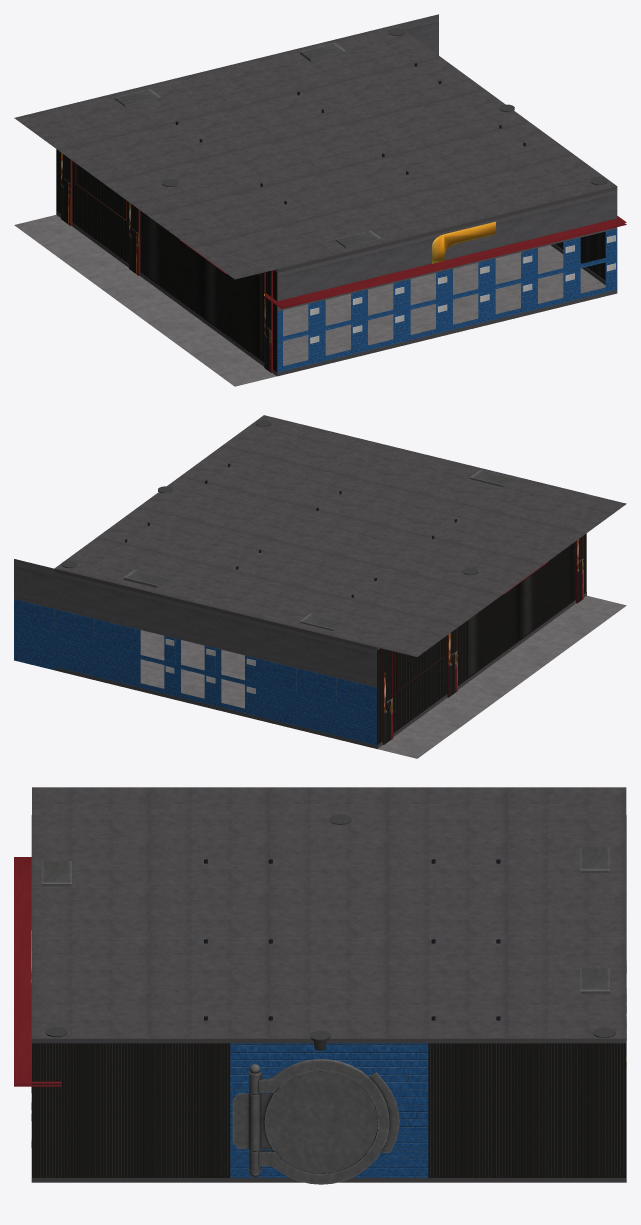
File: Casino_Cash_Room.fbx
3 views of the same model, one above another, from view 1: azimuth 30°, elevation 25°; view 2: azimuth 150°, elevation 25°; view 3: azimuth 270°, elevation 25° (orthographic). The views are drawn at different scales.
Visible parts, largest first — view 1: Roof, Plane.004, Floor, Right_Side_Wall.001, Skirting, Door_Wall, Front_Wall, Washroom_Walls.003; view 2: Roof, Front_Wall, Right_Side_Wall.001, Floor, Skirting; view 3: Roof, Door_Wall, Vault_Door, Skirting, Plane.004, Cctv, Washroom_Walls.003, Washroom_Walls.001, Washroom_Walls.002.
Boxes of the visible parts, x1,y1,x2,y2 form: Roof: [14, 25, 615, 279]; Plane.004: [264, 190, 626, 372]; Floor: [14, 214, 605, 386]; Right_Side_Wall.001: [56, 149, 277, 372]; Skirting: [56, 24, 617, 376]; Door_Wall: [555, 231, 605, 280]; Front_Wall: [397, 14, 438, 55]; Washroom_Walls.003: [300, 43, 346, 61]; Roof: [55, 415, 626, 656]; Front_Wall: [14, 559, 376, 745]; Right_Side_Wall.001: [377, 533, 586, 745]; Floor: [140, 595, 626, 758]; Skirting: [54, 415, 586, 748]; Roof: [32, 787, 626, 1037]; Door_Wall: [32, 1043, 626, 1177]; Vault_Door: [232, 1059, 399, 1184]; Skirting: [31, 815, 626, 1182]; Plane.004: [14, 857, 61, 1148]; Cctv: [45, 814, 615, 1050]; Washroom_Walls.003: [580, 968, 609, 994]; Washroom_Walls.001: [580, 847, 609, 872]; Washroom_Walls.002: [42, 861, 71, 886].
Size of the model in its own units: 13.13 by 3.26 by 12.19.
